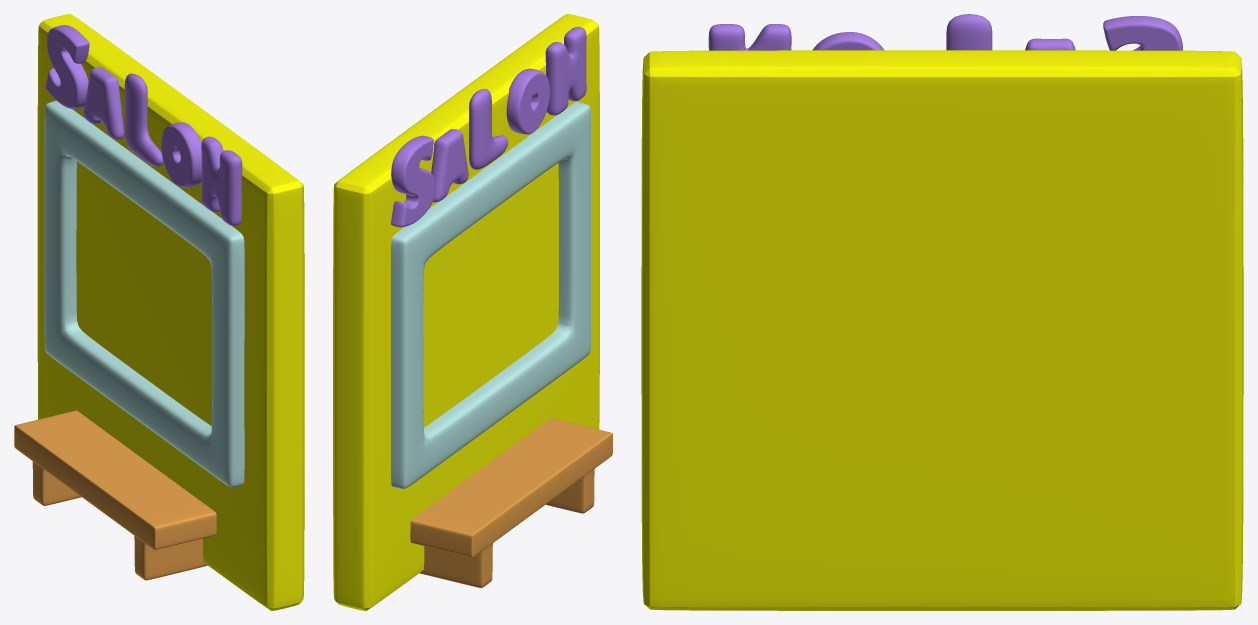
The picture shows the model from 3 angles, left to right: view 1: azimuth 30°, elevation 25°; view 2: azimuth 150°, elevation 25°; view 3: azimuth 270°, elevation 25°; orthographic projection. The views are drawn at different scales.
Visible parts, largest first — view 1: polySurface1429; view 2: polySurface1429; view 3: polySurface1429.
Part boxes in pixels (x1,y1,x2,y2): polySurface1429: (14,14,304,610); polySurface1429: (333,14,612,610); polySurface1429: (641,14,1243,610).
Bounding box in the file's own units: 0.2507 × 1.05 × 0.9995.
